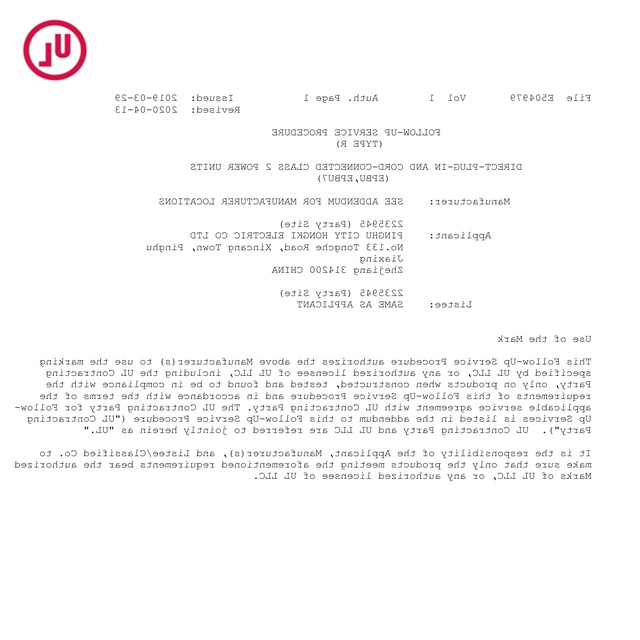ul: (22, 17, 87, 80)
